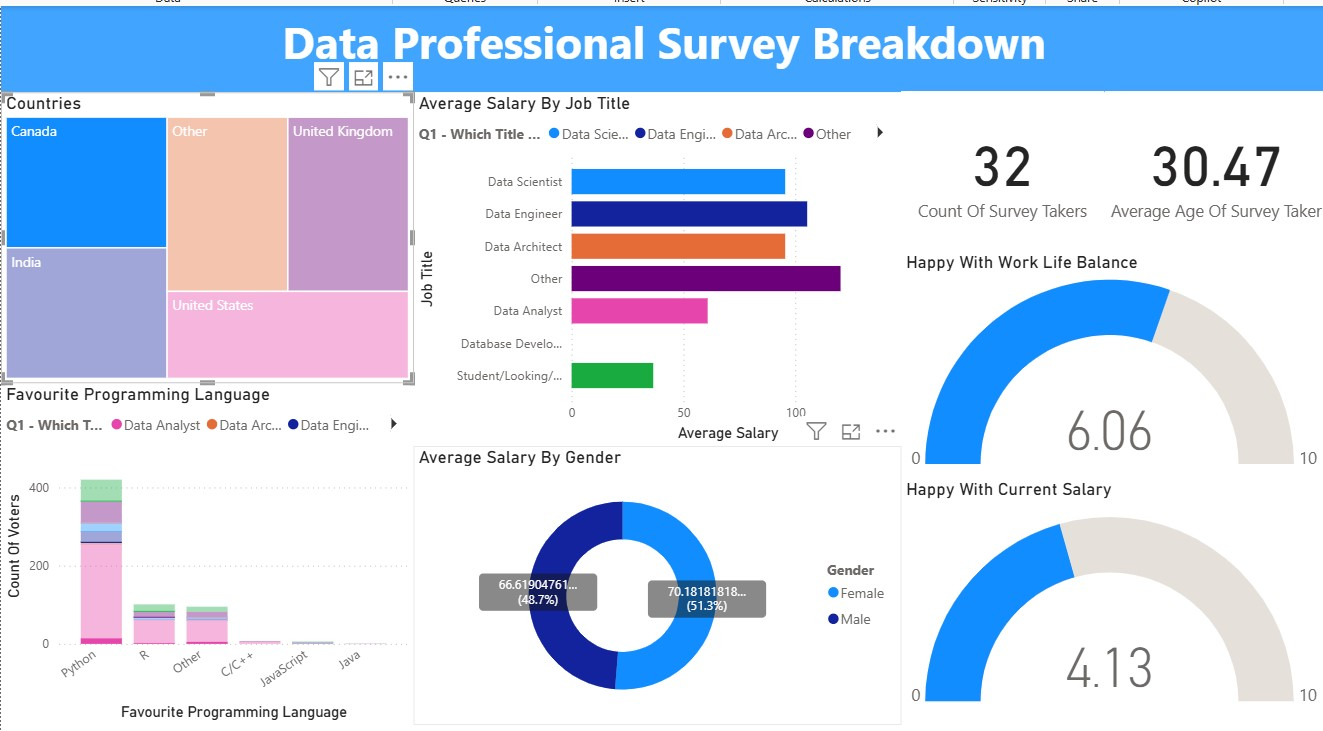

The dashboard page shown, as its layout file describes it:
{"tool":"powerbi","page":{"name":"Page 1","canvas":[1280,720],"ordinal":0},"visuals":[{"type":"textbox","box":[0,0,1280,82.9],"z":0},{"type":"card","fields":{"Values":["Count(Data Professional Survey.Unique ID)"]},"box":[868.6,82.3,196.2,153.7],"z":1000},{"type":"card","fields":{"Values":["Avg(Data Professional Survey.Q10 - Current Age)"]},"box":[1064.8,82.3,215.4,153.7],"z":2000},{"type":"barChart","title":"Average Salary By Job Title","fields":{"Y":["Avg(Data Professional Survey.Average Salary)"],"Category":["Data Professional Survey.Q1 - Which Title Best Fits your Current Role?.1"],"Series":["Data Professional Survey.Q1 - Which Title Best Fits your Current Role?.1"]},"box":[398.6,82.9,470,341.4],"z":3000},{"type":"columnChart","title":"Favourite Programming Language","fields":{"Category":["Data Professional Survey.Q5 - Favorite Programming Language.1"],"Y":["CountNonNull(Data Professional Survey.Unique ID)"],"Series":["Data Professional Survey.Q1 - Which Title Best Fits your Current Role?.1"]},"box":[0,364.3,398.6,330],"z":4000},{"type":"treemap","title":"Countries","fields":{"Group":["Data Professional Survey.Q11 - Which Country do you live in?.1"],"Values":["Count(Data Professional Survey.Q11 - Which Country do you live in?.1)"]},"box":[0,82.9,398.6,281.4],"z":5000},{"type":"gauge","title":"Happy With  Current Salary","fields":{"Y":["Avg(Data Professional Survey.Q6 - How Happy are you in your Current Position with the following? (Salary))"],"MinValue":["Min(Data Professional Survey.Q6 - How Happy are you in your Current Position with the following? (Salary))1"],"MaxValue":["Max(Data Professional Survey.Q6 - How Happy are you in your Current Position with the following? (Salary))2"]},"box":[868.6,455.7,411.4,238.6],"z":5001},{"type":"gauge","title":"Happy With Work Life Balance","fields":{"Y":["Avg(Data Professional Survey.Q6 - How Happy are you in your Current Position with the following? (Work/Life Balance))"],"MinValue":["Min(Data Professional Survey.Q6 - How Happy are you in your Current Position with the following? (Work/Life Balance))1"],"MaxValue":["Max(Data Professional Survey.Q6 - How Happy are you in your Current Position with the following? (Work/Life Balance))2"]},"box":[868.6,236,411.7,219.6],"z":5002},{"type":"donutChart","title":"Average Salary By Gender","fields":{"Category":["Data Professional Survey.Q9 - Male/Female?"],"Y":["Avg(Data Professional Survey.Average Salary)"]},"box":[398.6,424.3,470,270],"z":5003}]}

Visuals, with their boxes on the page's 1280x720 design canvas (x1, y1, x2, y2). These are canvas units, not pixel positions in the 1323x731 screenshot, which may show the page scaled, cropped or inside an application window:
textbox: <box>0,0,1280,83</box>
card - Count(Data Professional Survey.Unique ID): <box>869,82,1065,236</box>
card - Avg(Data Professional Survey.Q10 - Current Age): <box>1065,82,1280,236</box>
"Average Salary By Job Title" barChart: <box>399,83,869,424</box>
"Favourite Programming Language" columnChart: <box>0,364,399,694</box>
"Countries" treemap: <box>0,83,399,364</box>
"Happy With  Current Salary" gauge: <box>869,456,1280,694</box>
"Happy With Work Life Balance" gauge: <box>869,236,1280,456</box>
"Average Salary By Gender" donutChart: <box>399,424,869,694</box>
